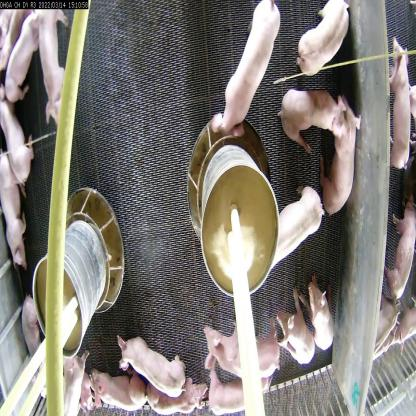Pig: (208, 0, 282, 138), (197, 320, 279, 382), (34, 10, 76, 131), (276, 80, 343, 154), (294, 0, 353, 81), (117, 333, 189, 398), (324, 100, 360, 226), (272, 186, 325, 268), (0, 139, 29, 277), (202, 361, 274, 416), (0, 86, 34, 190), (274, 289, 316, 369), (8, 11, 43, 104), (90, 365, 150, 416), (18, 284, 46, 392), (141, 376, 212, 416), (301, 276, 334, 350)
